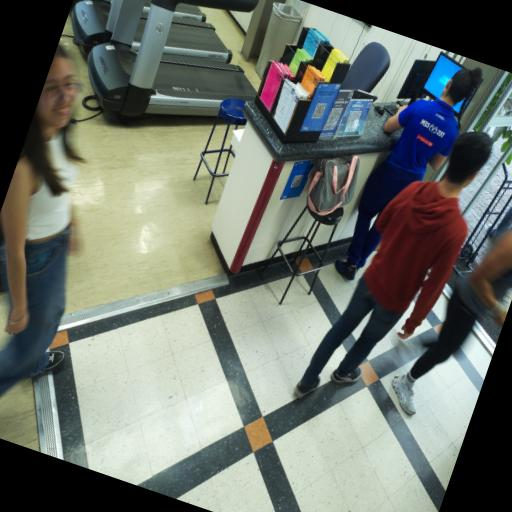person: (294, 132, 491, 397), (335, 68, 481, 280), (0, 46, 78, 395), (391, 228, 511, 415), (490, 206, 511, 236)
